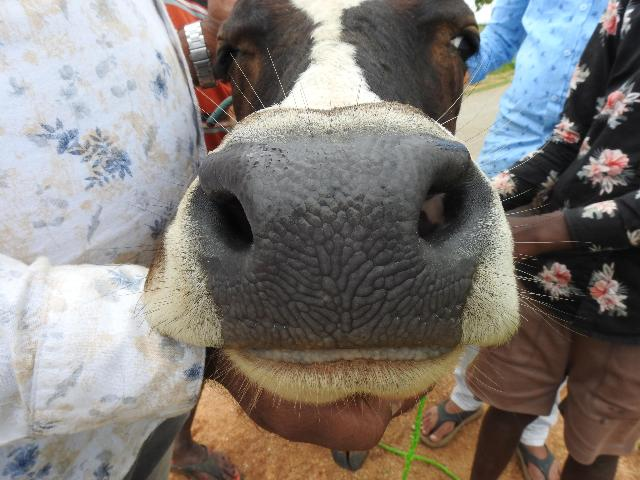Muzzle: (240, 146, 438, 348)
